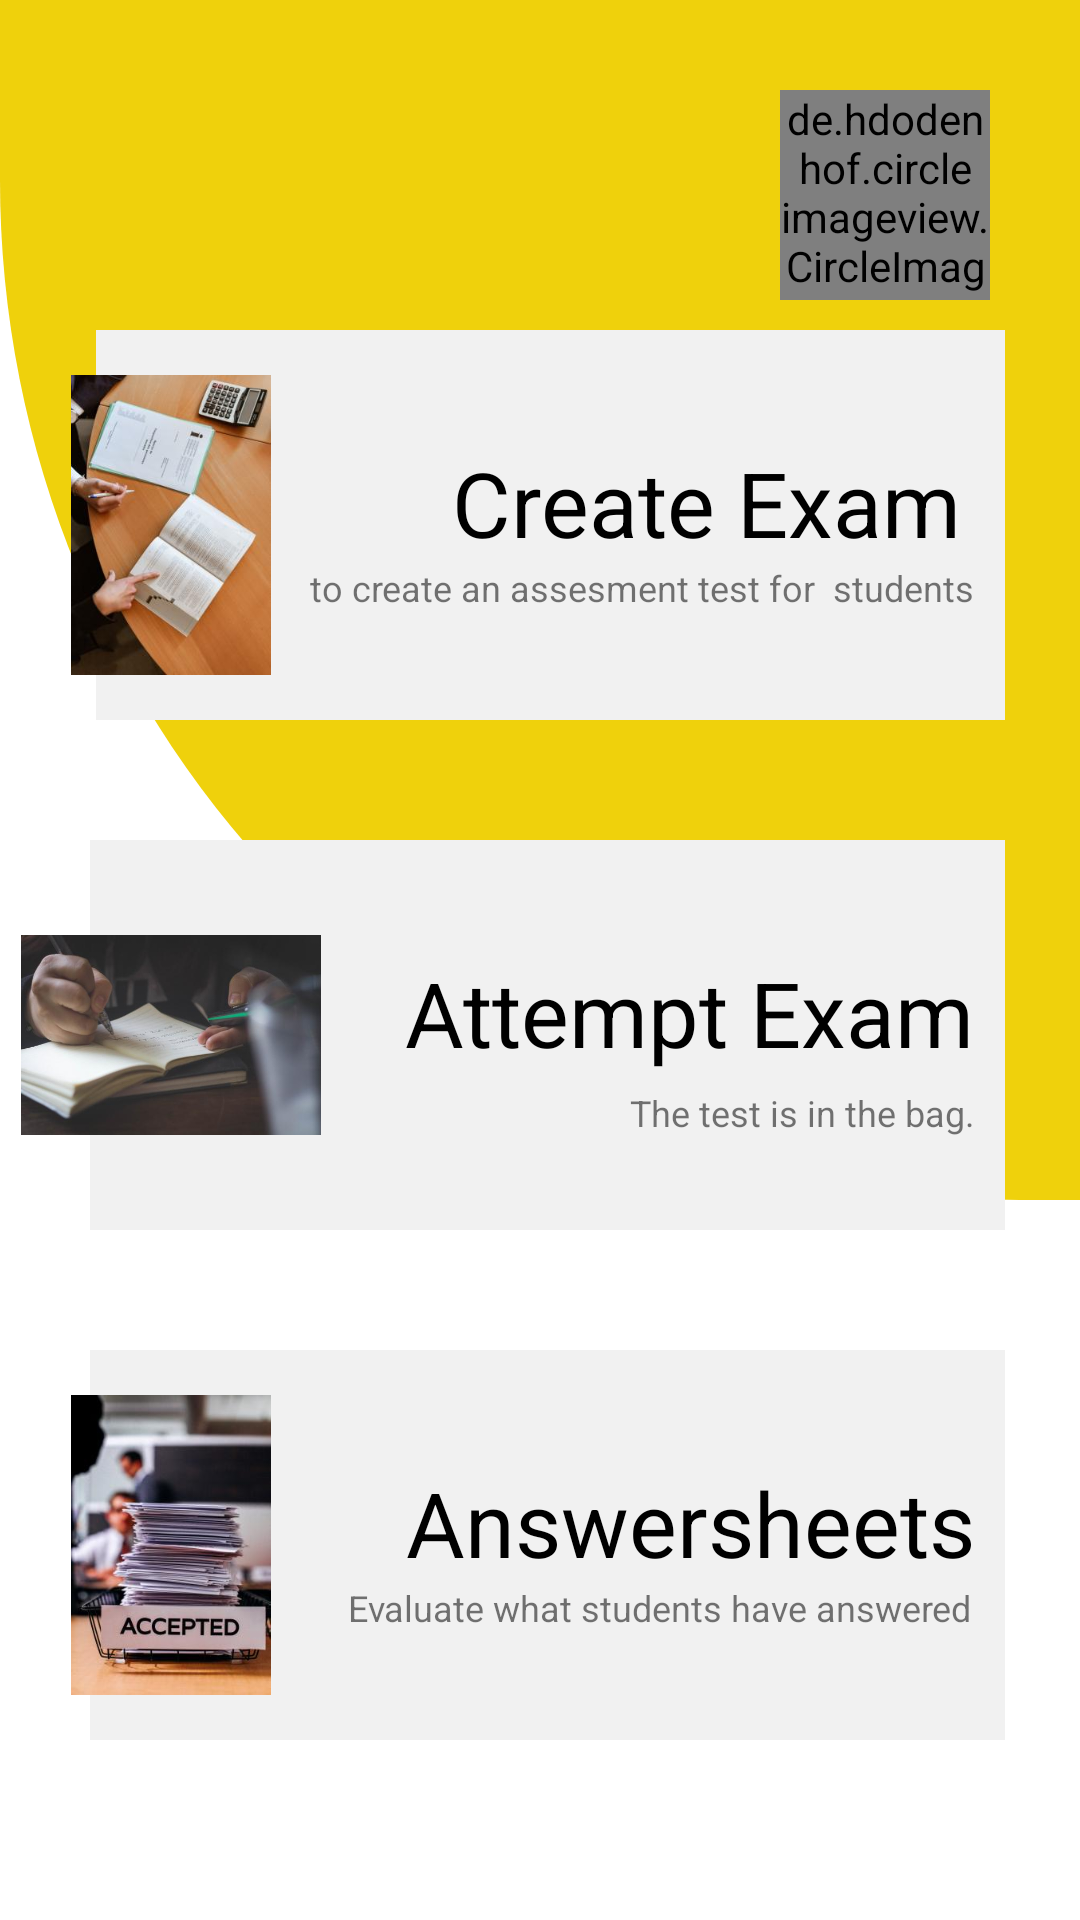

Where to tap for icons on this 1080 x 1920 app screen, as (x,y):
examsol: (171,1035)
